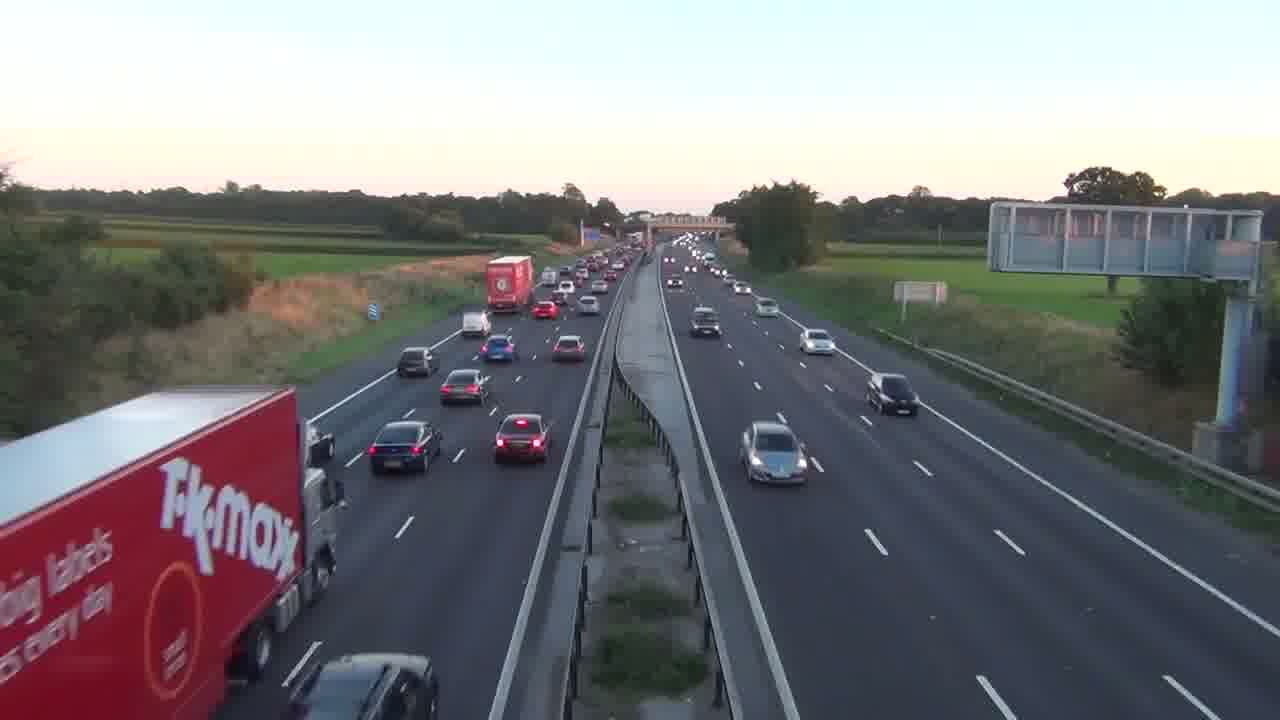bus: (484, 255, 534, 314)
car: (298, 651, 440, 718), (739, 420, 811, 486), (368, 420, 442, 474), (493, 412, 551, 465), (864, 371, 918, 416), (439, 368, 487, 405), (397, 346, 438, 378), (688, 305, 722, 338), (551, 334, 586, 363), (482, 334, 515, 362)
truck: (1, 382, 332, 714)
